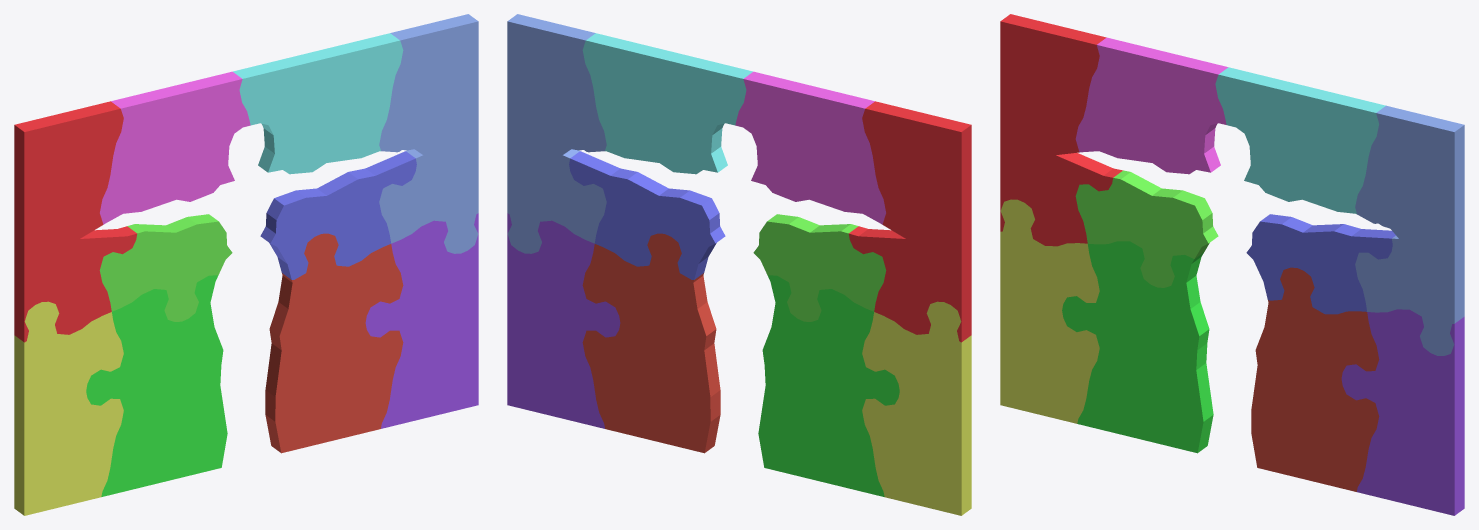
File: SNUH_Wall.fbx
The picture shows the model from 3 angles, left to right: view 1: azimuth 30°, elevation 25°; view 2: azimuth 150°, elevation 25°; view 3: azimuth 330°, elevation 25°; orthographic projection.
Visible parts, largest first — view 1: Wall.017, Wall.009, Wall.014, Wall.012, Wall.015, Wall.010, Wall.016, Wall.013, Wall.011, Wall.008; view 2: Wall.017, Wall.009, Wall.014, Wall.012, Wall.015, Wall.010, Wall.016, Wall.013, Wall.011, Wall.008; view 3: Wall.014, Wall.012, Wall.017, Wall.009, Wall.016, Wall.015, Wall.010, Wall.013, Wall.008, Wall.011.
Part boxes in pixels (x1,y1,x2,y2): Wall.017: (265,233,403,453); Wall.009: (14,101,137,342); Wall.014: (86,275,227,496); Wall.012: (379,14,478,253); Wall.015: (14,301,123,515); Wall.010: (233,33,403,174); Wall.016: (365,213,478,428); Wall.013: (100,71,250,224); Wall.011: (260,151,416,279); Wall.008: (99,214,232,321); Wall.017: (582,233,720,453); Wall.009: (848,101,971,342); Wall.014: (758,275,899,496); Wall.012: (507,14,606,253); Wall.015: (862,301,971,515); Wall.010: (582,33,752,174); Wall.016: (507,213,620,428); Wall.013: (735,71,885,224); Wall.011: (569,151,725,279); Wall.008: (753,214,886,321); Wall.014: (1062,241,1213,453); Wall.012: (1355,105,1464,355); Wall.017: (1251,267,1379,491); Wall.009: (1000,14,1122,246); Wall.016: (1341,309,1464,515); Wall.015: (1000,199,1099,423); Wall.010: (1215,67,1385,214); Wall.013: (1075,37,1228,174); Wall.008: (1075,170,1218,287); Wall.011: (1246,214,1395,314).
Size of the model in its own units: 260 by 210 by 10.
